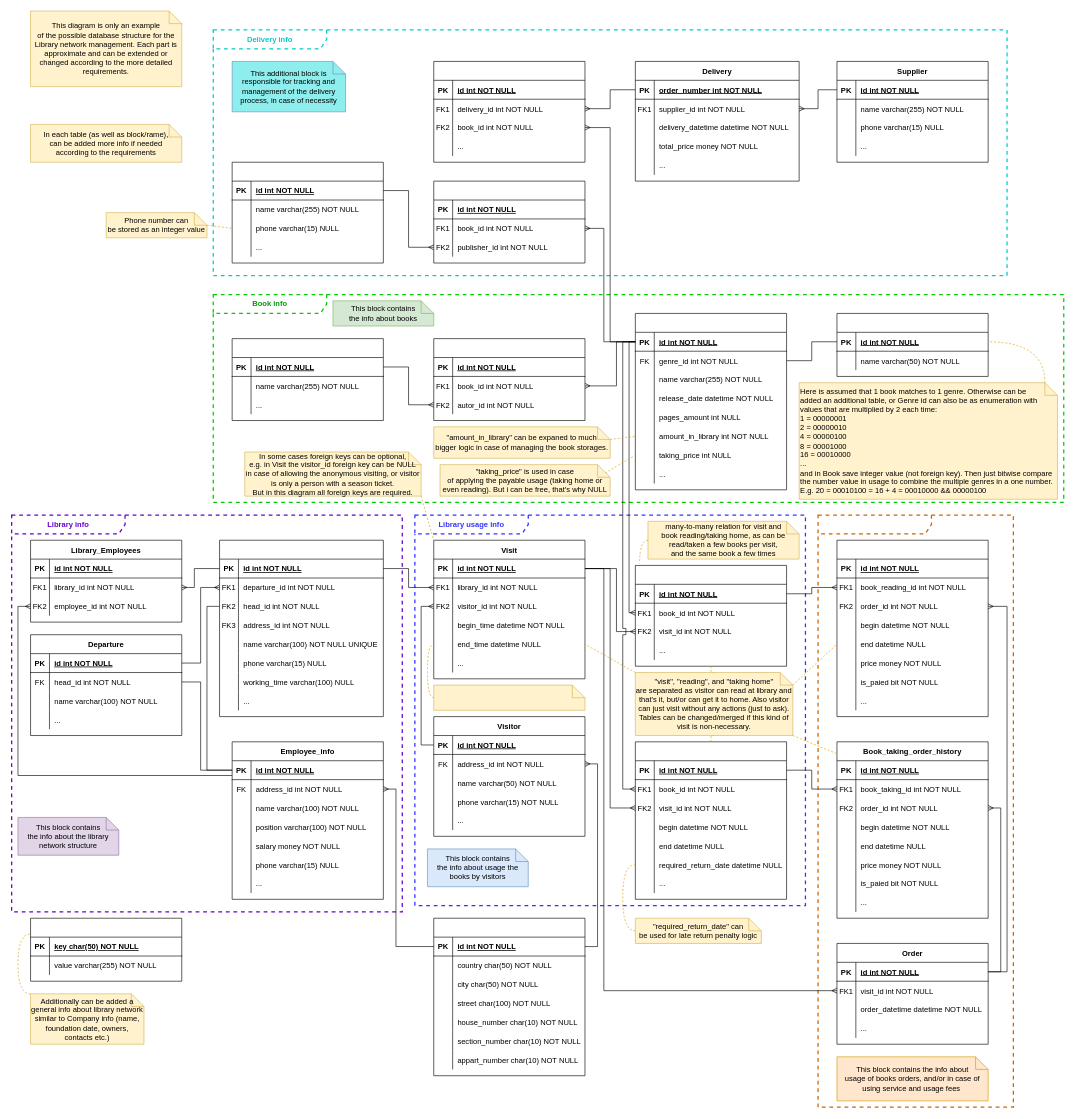
Image size: 1075x1119. Some labels were removed from this diagram. The box of each missing label's shape, as (x1, y1, x2, y2) in pixels:
"end_time" is NULL until visit finishes (user can read a book for some time): (433, 684, 585, 710)
Address_info: (433, 918, 585, 1076)
Autor: (232, 338, 383, 421)
Book: (635, 313, 787, 490)
Book_Autor: (433, 338, 585, 421)
Book_Publisher: (433, 180, 585, 263)
Book_reading_history: (635, 565, 787, 666)
Book_reading_order_history: (836, 540, 988, 717)
Book_taking_history: (635, 741, 787, 899)
Delivery_history: (433, 61, 585, 162)
Genre: (836, 313, 988, 376)
Library: (219, 540, 383, 717)
Library_network_info: (30, 918, 182, 981)
Order info: (817, 514, 1014, 1108)
Publisher: (232, 162, 383, 263)
